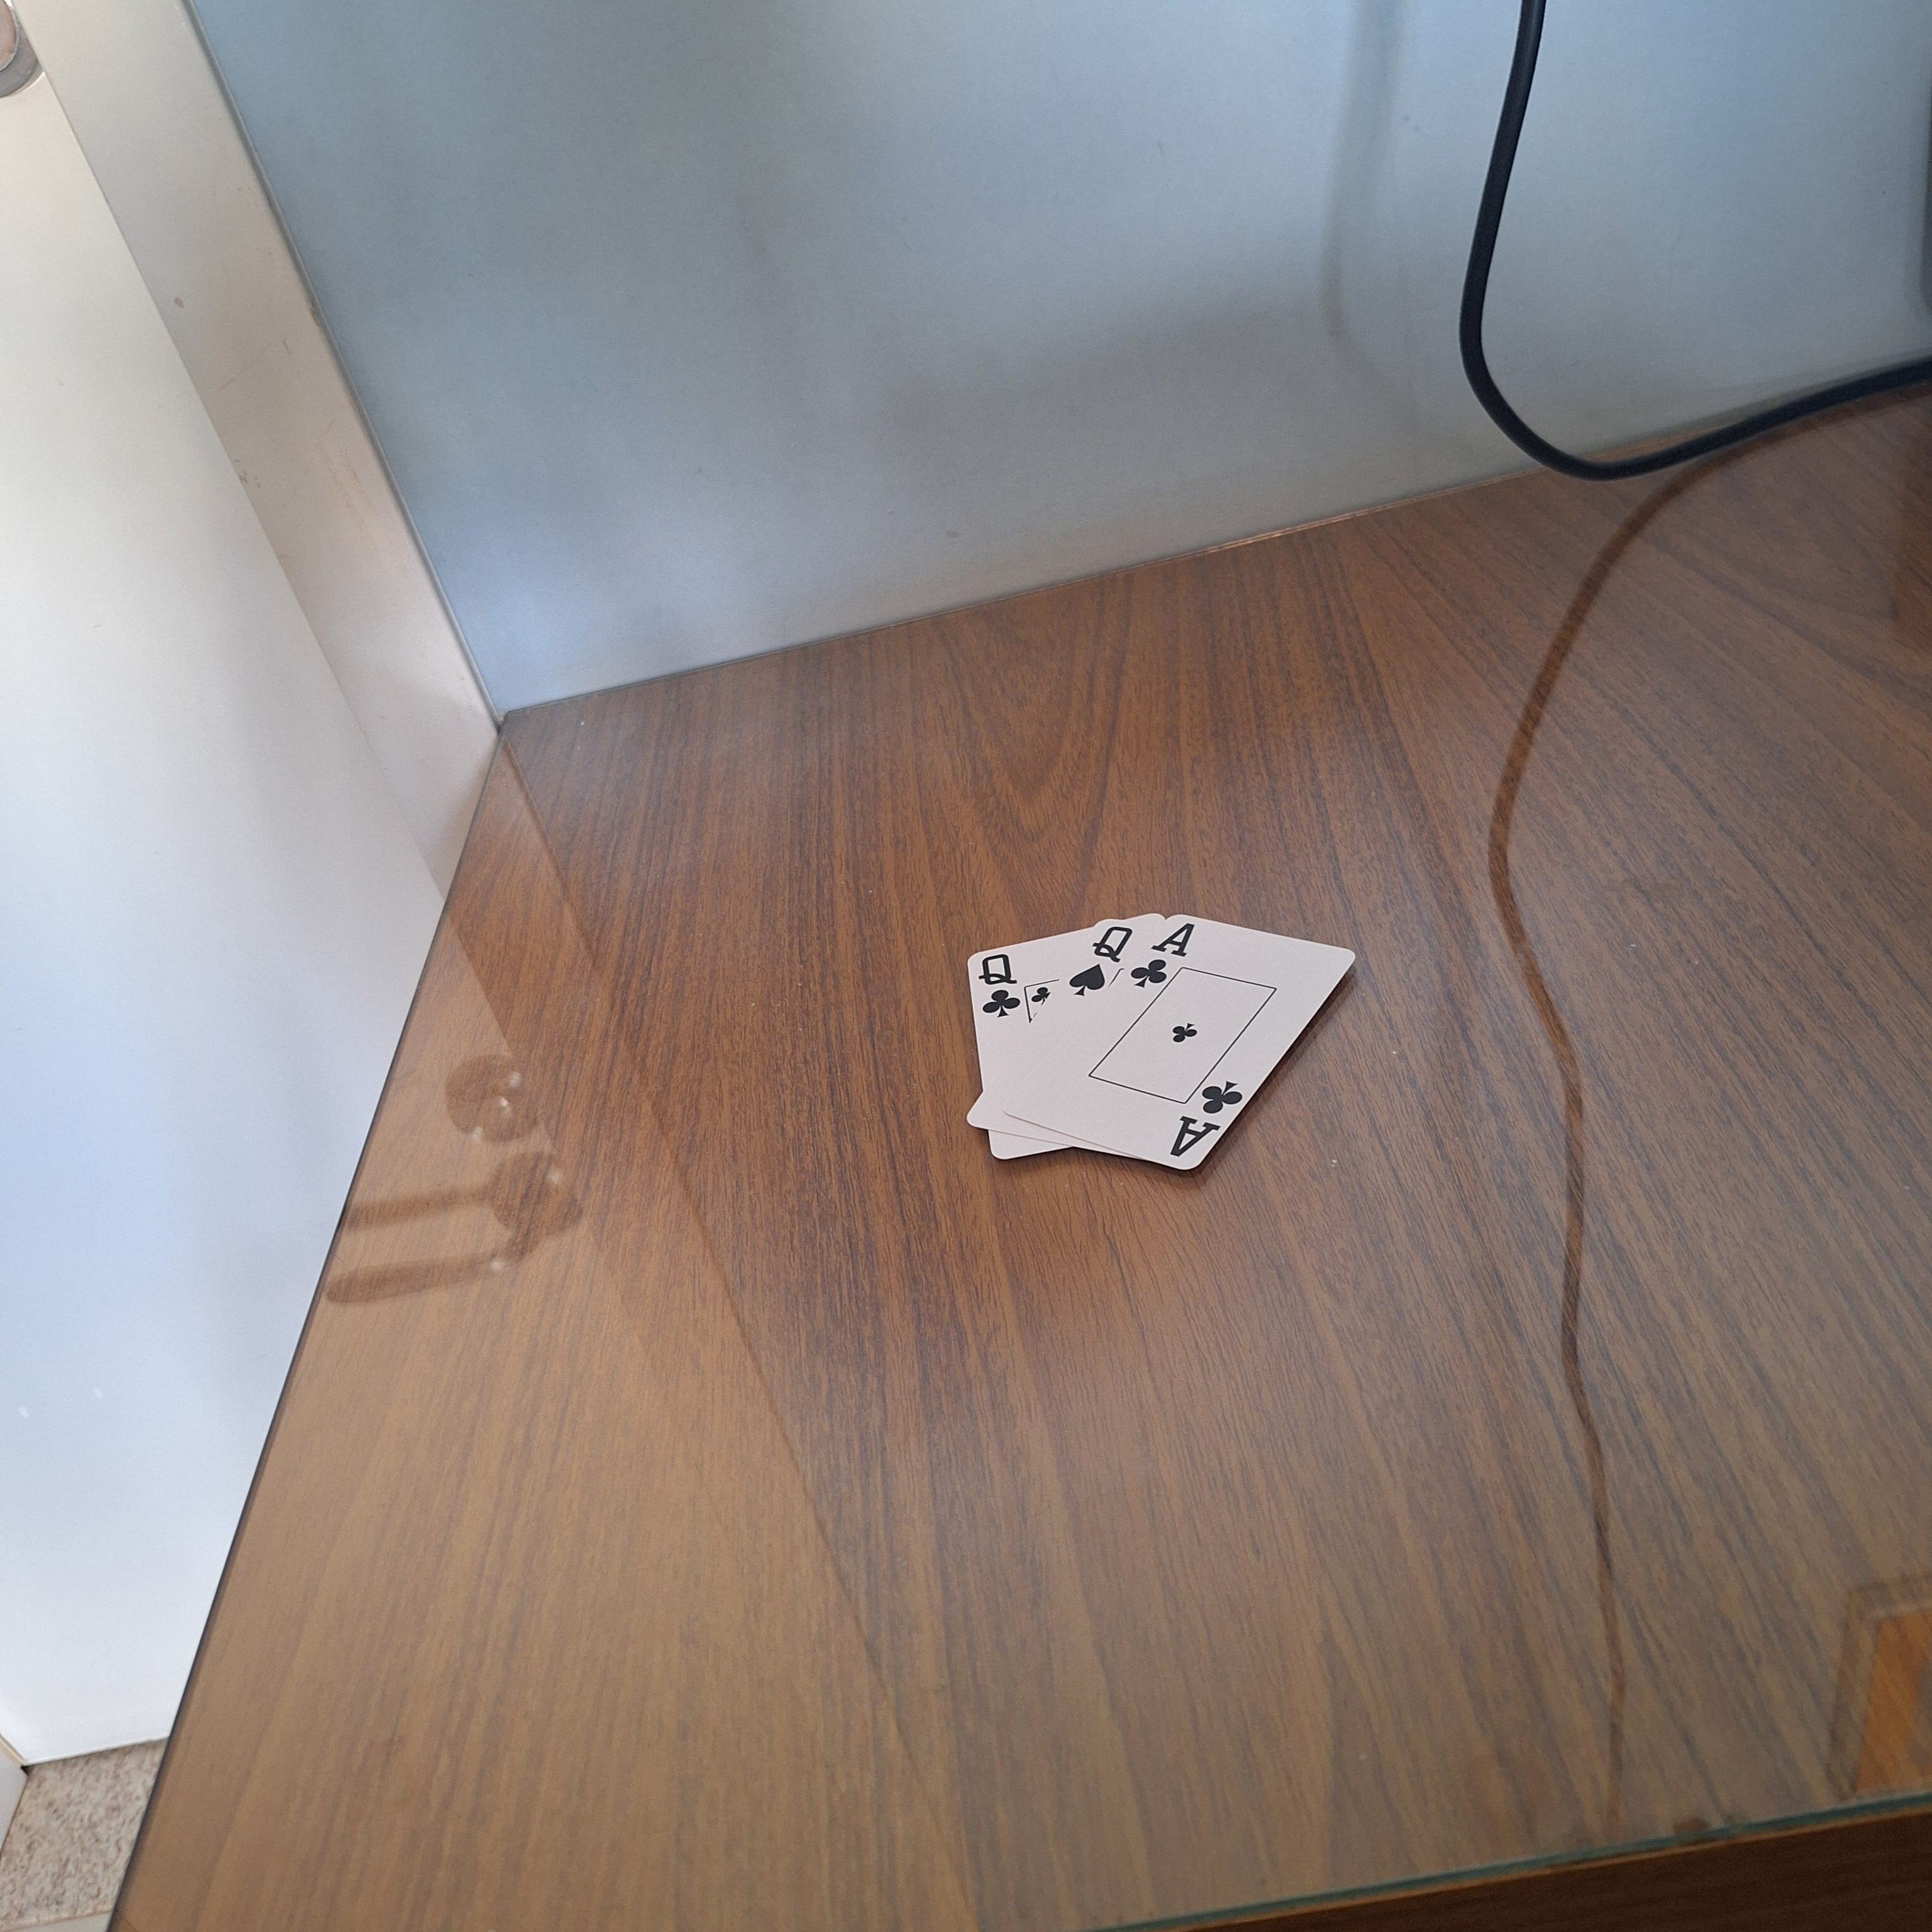AP: (1168, 1076, 1251, 1162), (1129, 918, 1203, 991)
QE: (1067, 925, 1132, 1005)
QP: (973, 950, 1026, 1023)
